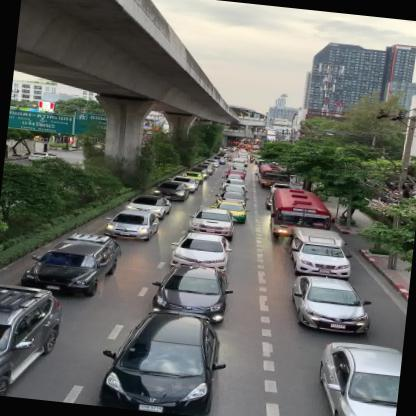bus: (268, 188, 341, 250)
car: (95, 302, 231, 415), (23, 226, 119, 301), (312, 341, 403, 415), (288, 274, 376, 338), (150, 260, 233, 324), (282, 226, 353, 278), (168, 230, 233, 272), (106, 205, 160, 241), (184, 204, 242, 235), (124, 193, 175, 221), (151, 180, 192, 201), (215, 200, 247, 224)
